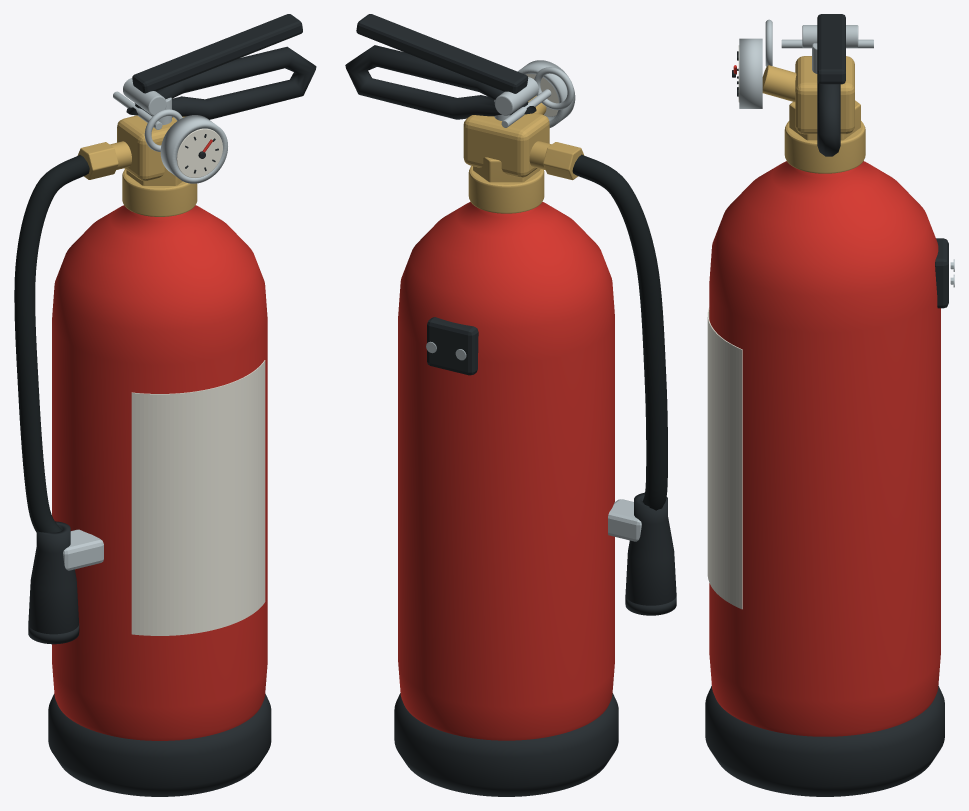
The model's file is city-portable-fire-extinguisher.glb.
3 renders of one model, left to right at view 1: azimuth 30°, elevation 25°; view 2: azimuth 150°, elevation 25°; view 3: azimuth 270°, elevation 25°, orthographic. The views are drawn at different scales.
Visible parts, largest first — view 1: Assembly | Red cylinder enamel, Assembly | Blank unprinted label, Assembly | Graphite recessed surfaces, Assembly | Matte black flexible polymer, Assembly | Valve brass, Assembly | Satin stainless steel; view 2: Assembly | Red cylinder enamel, Assembly | Graphite recessed surfaces, Assembly | Valve brass, Assembly | Matte black flexible polymer, Assembly | Satin stainless steel; view 3: Assembly | Red cylinder enamel, Assembly | Graphite recessed surfaces, Assembly | Blank unprinted label, Assembly | Valve brass, Assembly | Satin stainless steel.
Boxes of the visible parts, box(x1,y1,x2,y2) form: Assembly | Red cylinder enamel: box(52, 139, 267, 740); Assembly | Blank unprinted label: box(131, 128, 265, 635); Assembly | Graphite recessed surfaces: box(28, 14, 316, 796); Assembly | Matte black flexible polymer: box(14, 155, 89, 532); Assembly | Valve brass: box(77, 115, 197, 216); Assembly | Satin stainless steel: box(63, 78, 227, 570); Assembly | Red cylinder enamel: box(398, 202, 614, 740); Assembly | Graphite recessed surfaces: box(345, 14, 676, 796); Assembly | Valve brass: box(463, 95, 584, 213); Assembly | Matte black flexible polymer: box(572, 154, 667, 510); Assembly | Satin stainless steel: box(426, 60, 641, 541); Assembly | Red cylinder enamel: box(709, 65, 940, 736); Assembly | Graphite recessed surfaces: box(705, 14, 948, 796); Assembly | Blank unprinted label: box(707, 45, 742, 609); Assembly | Valve brass: box(762, 56, 865, 173); Assembly | Satin stainless steel: box(739, 19, 954, 287).
Size of the model in its own units: 0.2915 by 0.6375 by 0.1914.
